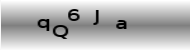6: (67, 8, 81, 22)
J: (91, 8, 101, 26)
Q: (51, 24, 70, 40)
a: (115, 19, 128, 31)
q: (36, 18, 51, 32)
